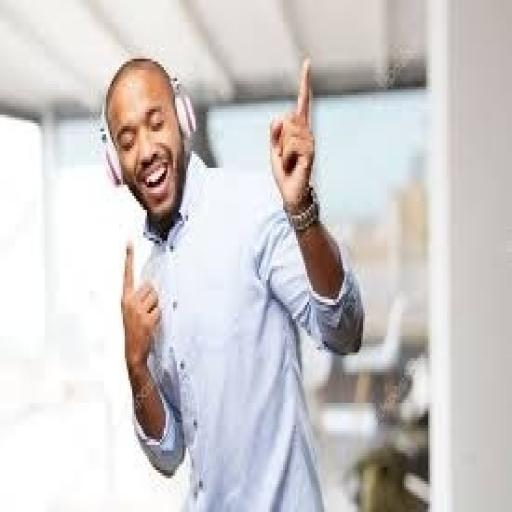listening_to_music: (98, 53, 366, 509)
